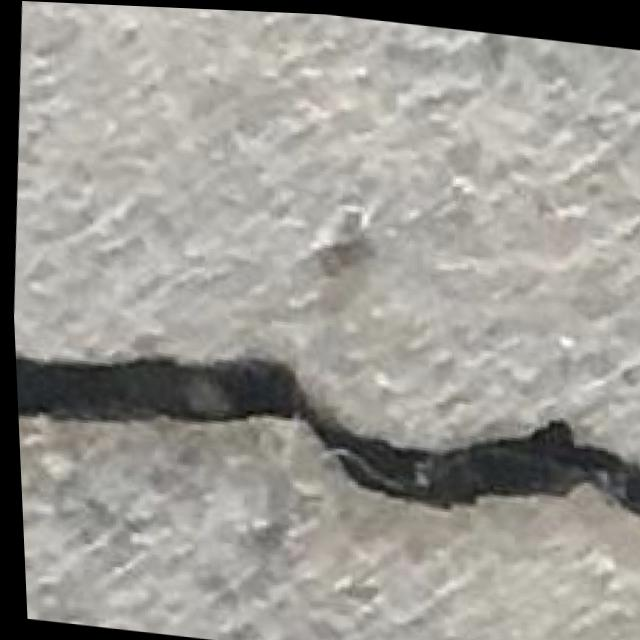Crack: (28, 319, 640, 534)
